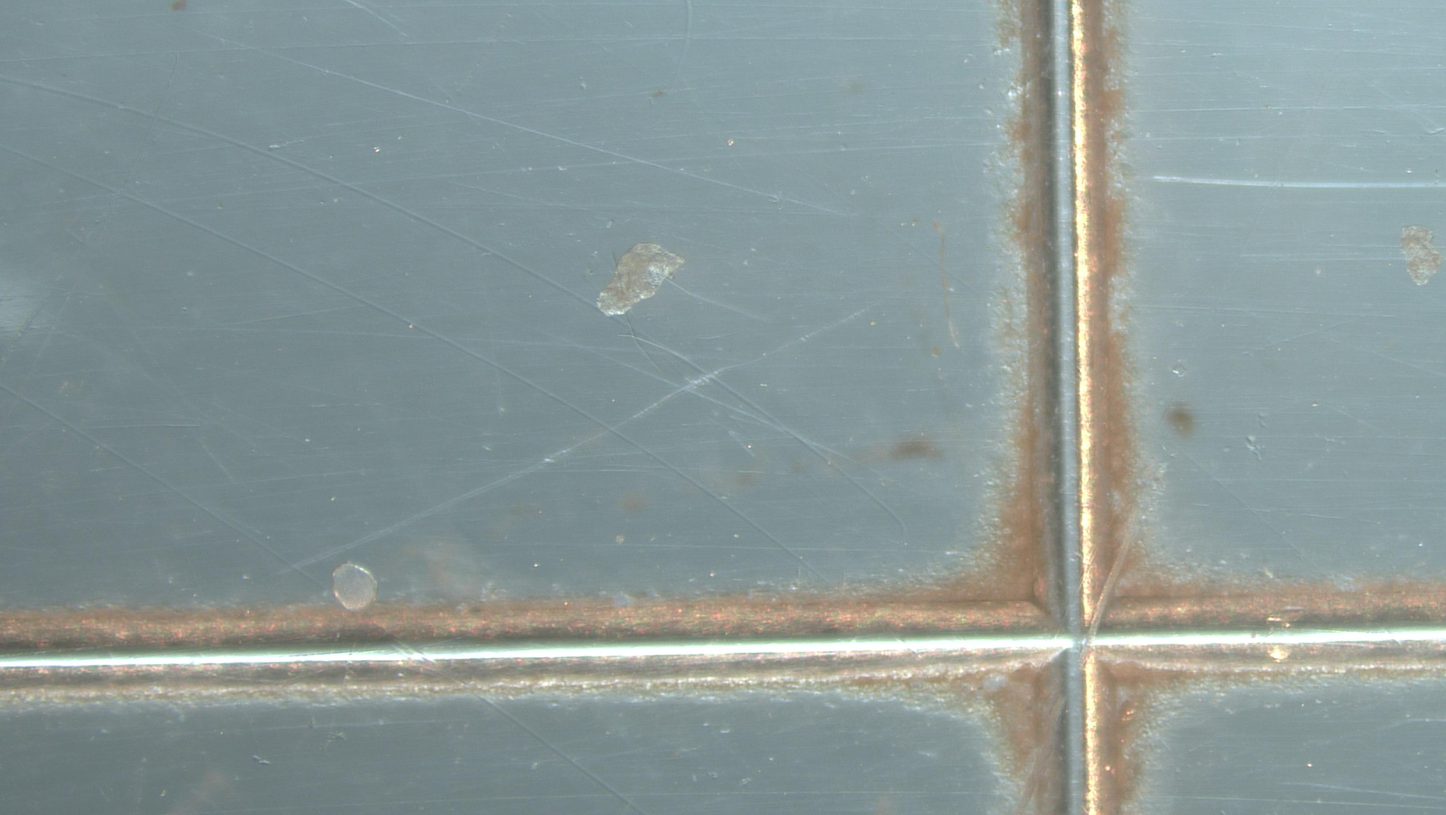dead: (332, 563, 378, 611)
